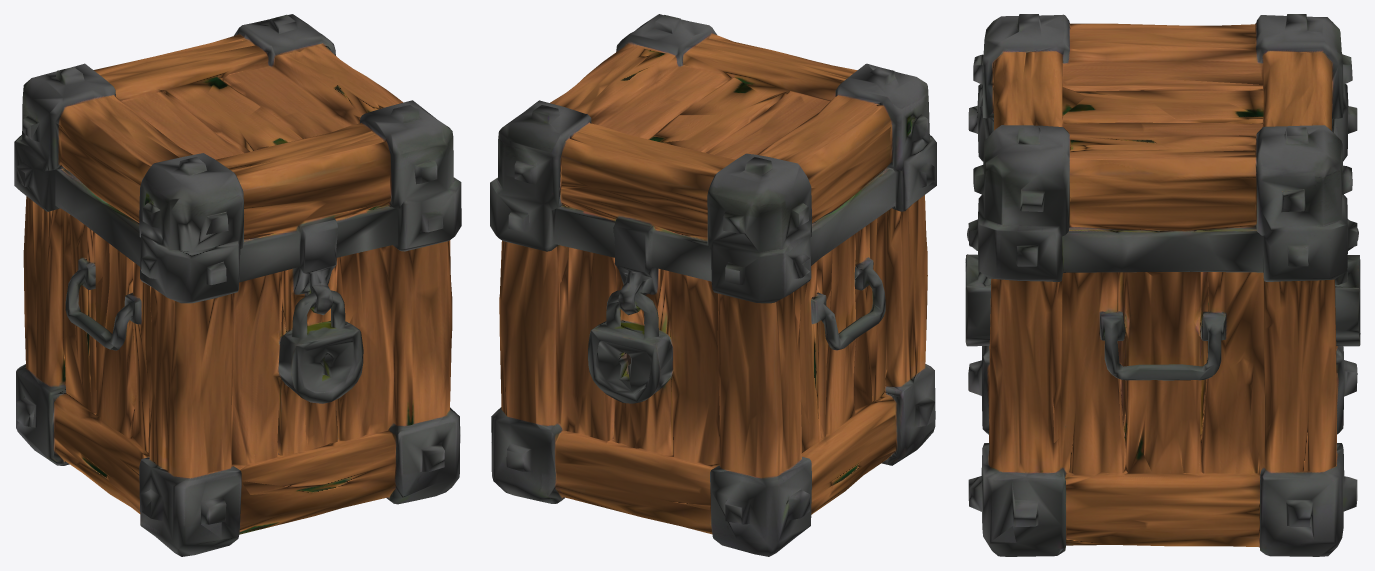
Rendered from wooden_chest.fbx.
The picture shows the model from 3 angles, left to right: view 1: azimuth 30°, elevation 25°; view 2: azimuth 150°, elevation 25°; view 3: azimuth 270°, elevation 25°; orthographic projection. The views are drawn at different scales.
Parts seen in each view (by area): view 1: mesh_node; view 2: mesh_node; view 3: mesh_node.
Part boxes in pixels (box(x1,y1,x2,y2)): mesh_node: box(14, 14, 461, 556); mesh_node: box(490, 14, 936, 556); mesh_node: box(965, 14, 1360, 556).
Bounding box in the file's own units: 162 × 190 × 164.
1 material, 1 textured.
